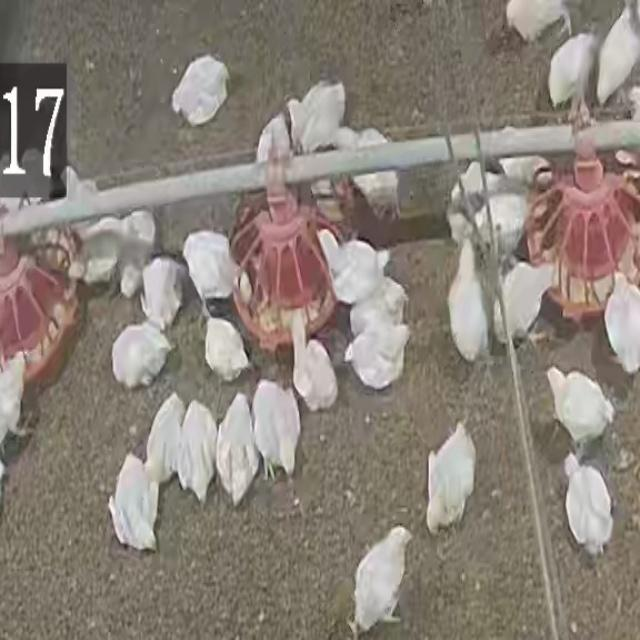chicken: (348, 527, 413, 638), (545, 367, 617, 452), (426, 422, 477, 535), (562, 455, 615, 561), (317, 229, 387, 309), (182, 231, 252, 309), (496, 260, 555, 352), (446, 237, 488, 366), (345, 308, 409, 392), (344, 128, 401, 221), (250, 381, 299, 484), (108, 454, 158, 554), (594, 2, 640, 108), (216, 392, 258, 504), (289, 314, 336, 412), (289, 80, 348, 158), (171, 53, 231, 126), (546, 29, 598, 111), (444, 161, 495, 244), (178, 398, 218, 503), (67, 215, 122, 290), (144, 393, 186, 488), (602, 272, 640, 375), (112, 323, 170, 389), (138, 254, 186, 332), (475, 196, 548, 246), (497, 125, 556, 183), (119, 210, 155, 299), (202, 317, 252, 380), (504, 0, 568, 44), (0, 352, 28, 449), (255, 112, 291, 170)
